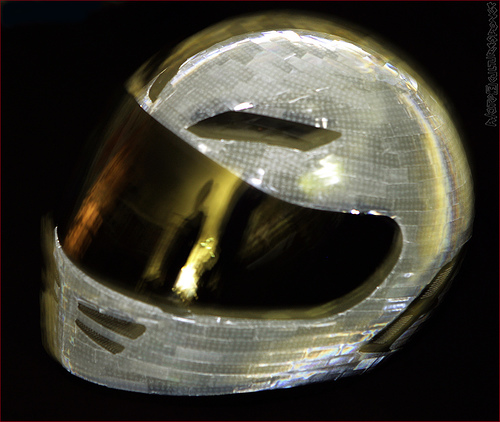helmet: (71, 16, 459, 374)
